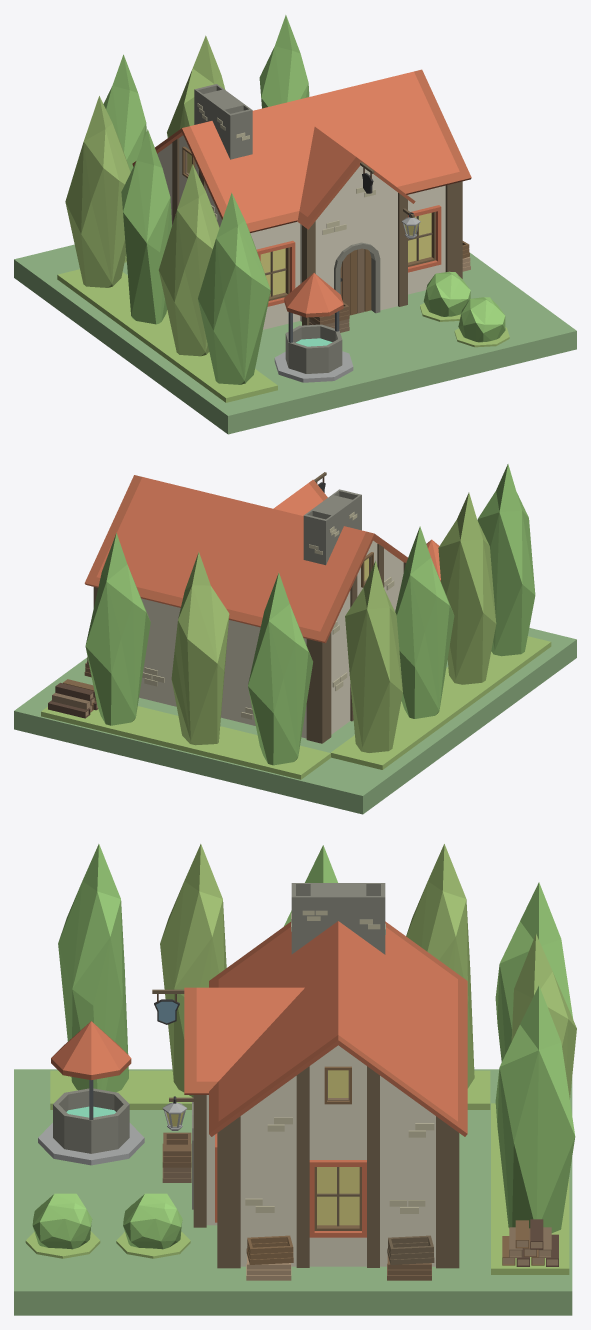
File: House_1.fbx
3 renders of one model, top to bottom at view 1: azimuth 30°, elevation 25°; view 2: azimuth 150°, elevation 25°; view 3: azimuth 270°, elevation 25°, orthographic. The views are drawn at different scales.
Parts seen in each view (by area): view 1: House_1; view 2: House_1; view 3: House_1.
Boxes of the visible parts, box(x1,y1,x2,y2) form: House_1: box(14, 15, 576, 434); House_1: box(14, 464, 576, 814); House_1: box(14, 844, 576, 1315).
Bounding box in the file's own units: 190 × 111 × 203.
Materials: 1 (1 with a texture image).
